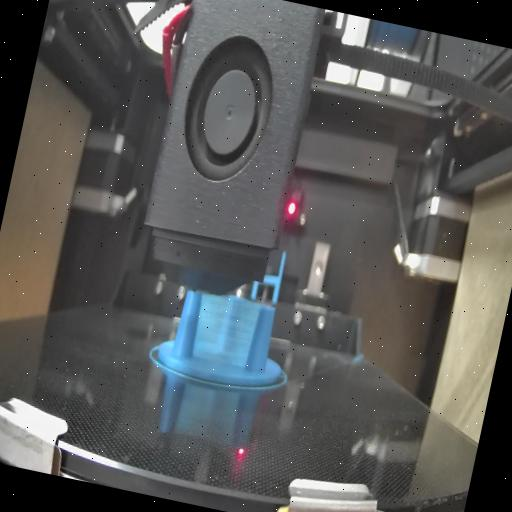stringing: (188, 292, 260, 372)
